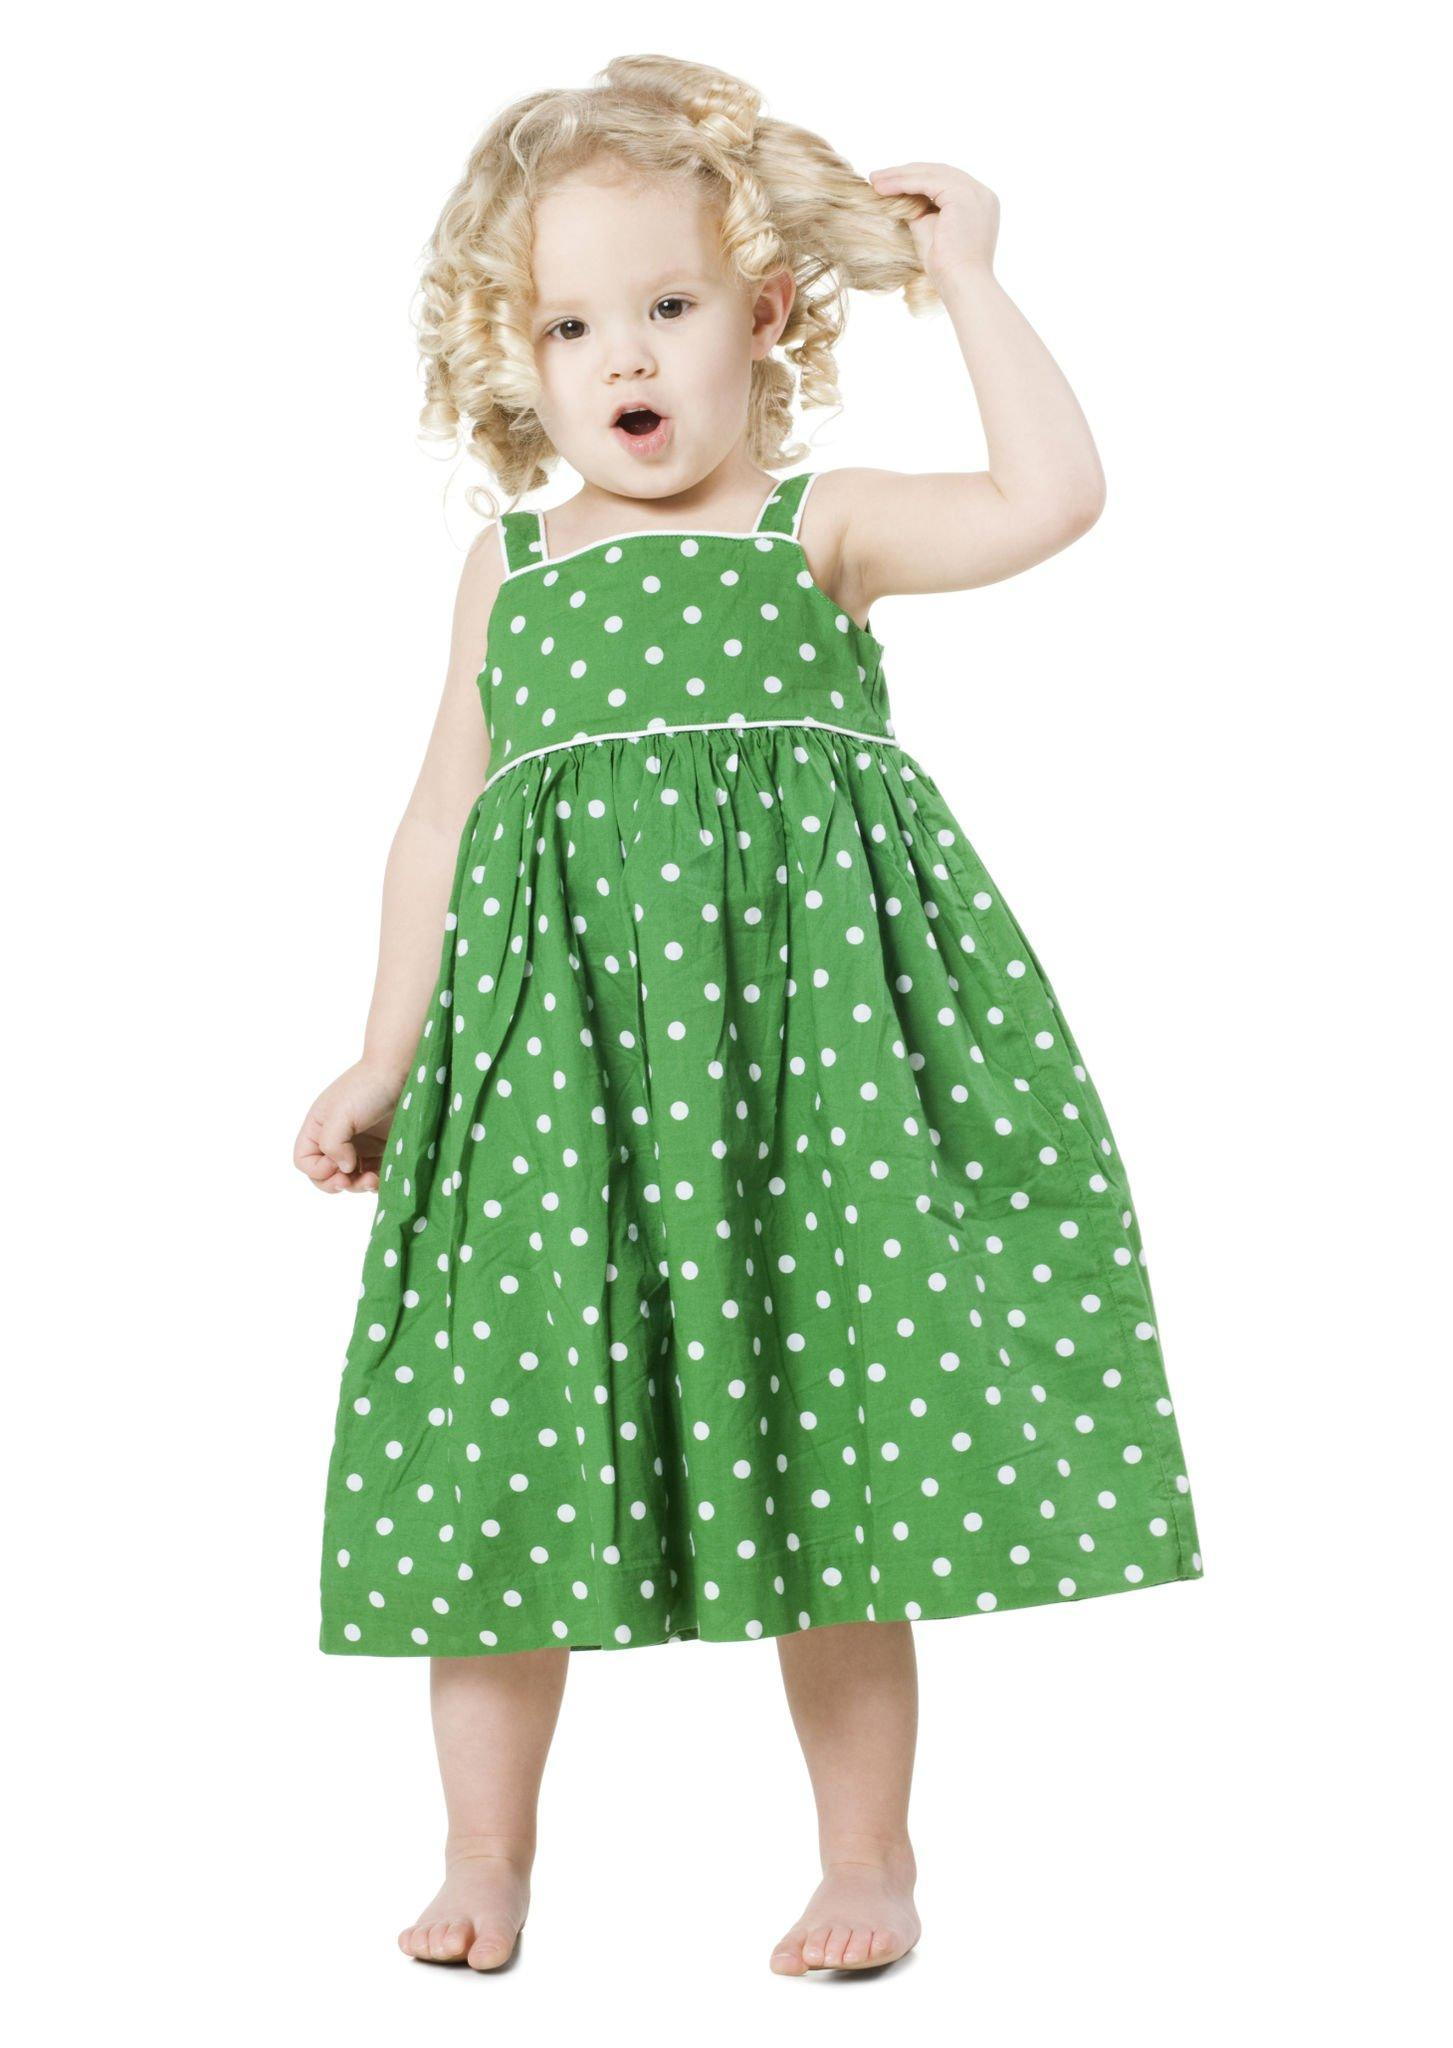Healthy: (476, 127, 838, 528)
